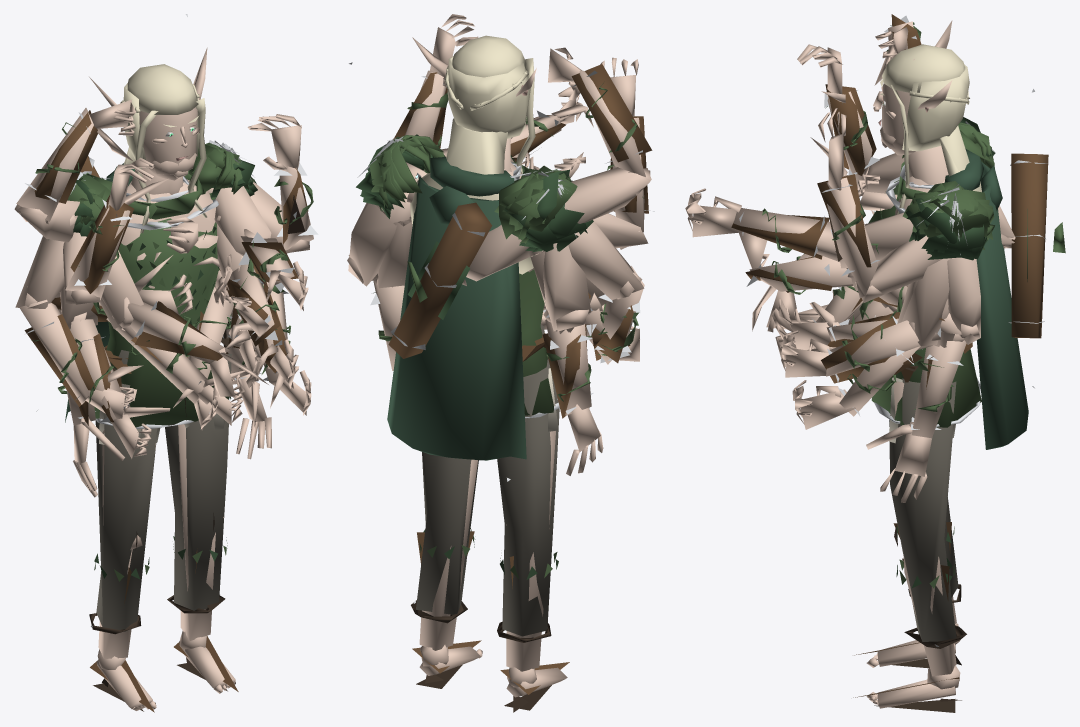
File: elf_chain.glb
The picture shows the model from 3 angles, left to right: view 1: azimuth 30°, elevation 25°; view 2: azimuth 150°, elevation 25°; view 3: azimuth 270°, elevation 25°; orthographic projection. The views are drawn at different scales.
Visible parts, largest first — view 1: B_6d, B_5d, B_0d, R.staffR_25d, R.xbowR_37d, B_3d, R.raised_17d, L.bowArm_53d, B_4d, B_7d, R.cast_31d, R.cast_29d (+35 smaller); view 2: B_8d, B_6d, B_0d, B_3d, R.raised_17d, R.staffR_25d, R.carry_41d, B_5d, B_7d, R.raised_19d, L.rest_45d, L.carry_73d (+25 smaller); view 3: B_8d, B_0d, B_6d, L.cast_65d, L.shield_49d, B_5d, L.bowArm_53d, L.carry_73d, L.rest_45d, B_4d, B_7d, R.cast_31d (+25 smaller).
Boxes of the visible parts, <box> form: B_6d: <box>95,350,231,631</box>; B_5d: <box>94,170,231,428</box>; B_0d: <box>89,47,207,233</box>; R.staffR_25d: <box>15,236,89,404</box>; R.xbowR_37d: <box>101,250,229,363</box>; B_3d: <box>98,389,224,658</box>; R.raised_17d: <box>14,108,93,242</box>; L.bowArm_53d: <box>214,186,294,285</box>; B_4d: <box>96,631,235,710</box>; B_7d: <box>89,536,238,712</box>; R.cast_31d: <box>70,195,133,293</box>; R.cast_29d: <box>63,206,130,304</box>; B_8d: <box>349,62,526,481</box>; B_6d: <box>416,324,559,636</box>; B_0d: <box>410,35,536,274</box>; B_3d: <box>419,368,558,671</box>; R.raised_17d: <box>564,70,651,223</box>; R.staffR_25d: <box>568,220,644,339</box>; R.carry_41d: <box>541,243,590,333</box>; B_5d: <box>424,162,559,418</box>; B_7d: <box>411,528,569,712</box>; R.raised_19d: <box>571,64,652,163</box>; L.rest_45d: <box>373,206,412,370</box>; L.carry_73d: <box>347,203,402,286</box>; B_8d: <box>944,89,1065,449</box>; B_0d: <box>873,20,981,214</box>; B_6d: <box>889,378,958,641</box>; L.cast_65d: <box>826,175,942,302</box>; L.shield_49d: <box>826,258,952,376</box>; B_5d: <box>868,161,981,427</box>; L.bowArm_53d: <box>733,208,913,268</box>; L.carry_73d: <box>879,257,980,344</box>; L.rest_45d: <box>911,312,966,438</box>; B_4d: <box>866,623,960,708</box>; B_7d: <box>853,522,966,712</box>; R.cast_31d: <box>824,84,879,175</box>.
Bounding box in the file's own units: 0.898 × 1.93 × 1.04.
